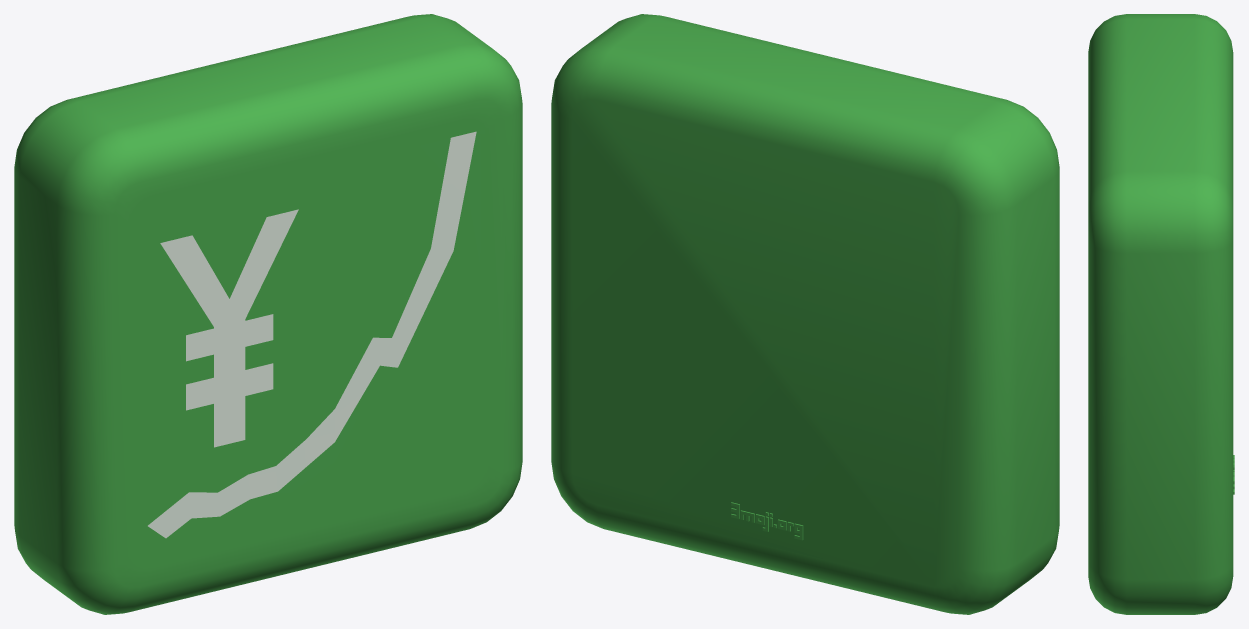
File: chart_increasing_with_yen.fbx
3 views of the same model, side by side, from view 1: azimuth 30°, elevation 25°; view 2: azimuth 150°, elevation 25°; view 3: azimuth 270°, elevation 25° (orthographic). The views are drawn at different scales.
Parts seen in each view (by area): view 1: Cube.963; view 2: Cube.963; view 3: Cube.963.
Part boxes in pixels (bbox=[...]): Cube.963: bbox=[14, 14, 522, 614]; Cube.963: bbox=[551, 14, 1059, 614]; Cube.963: bbox=[1088, 14, 1234, 614].
Size of the model in its own units: 220 by 220 by 66.67.
Materials: 1 (1 with a texture image).
